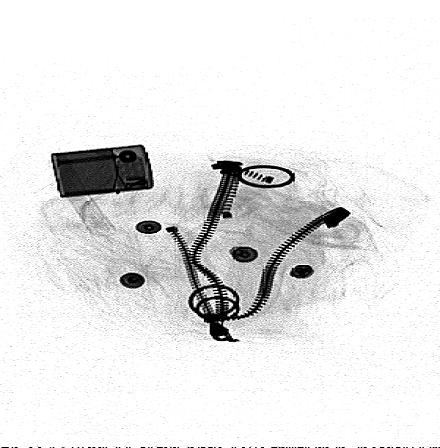Lighter: (50, 144, 156, 199)
